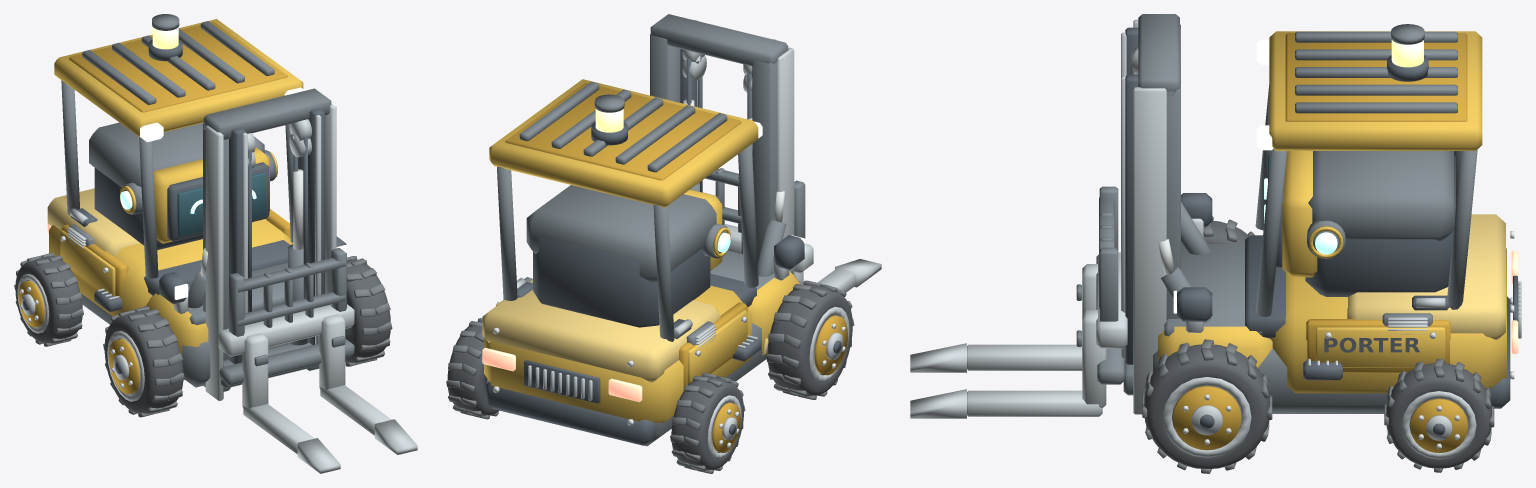
File: porter_standard.glb
3 renders of one model, left to right at view 1: azimuth 30°, elevation 25°; view 2: azimuth 150°, elevation 25°; view 3: azimuth 270°, elevation 25°, orthographic. The views are drawn at different scales.
Parts seen in each view (by area): view 1: Forks_steel, OuterMast_steel, RoofInset_shadowpaint, Roof_paint, LoadBackrest_frame, RobotCab_frame, RoofRibs_frame, SafetyCage_frame, Counterweight_paint, InnerMast_black, MastCrossbar_frame, Wheel_L_1_Tire_rubber (+34 smaller); view 2: EngineCover_lightpaint, RobotCab_frame, RobotCab_black, Roof_paint, RoofInset_shadowpaint, Counterweight_paint, SafetyCage_frame, OuterMast_frame, RoofRibs_frame, Wheel_L_1_Tire_rubber, RearBumper_black, MastCrossbar_frame (+30 smaller); view 3: RobotCab_frame, Forks_steel, OuterMast_steel, Roof_paint, RoofRibs_frame, Counterweight_paint, RoofInset_shadowpaint, EngineCover_lightpaint, RobotCab_black, SafetyCage_frame, Wheel_R_1_Tire_rubber, Wheel_R_0_Tire_rubber (+29 smaller).
Boxes of the visible parts, x1,y1,x2,y2 form: Forks_steel: (242,314,417,473); OuterMast_steel: (205,103,336,400); RoofInset_shadowpaint: (69,21,287,112); Roof_paint: (54,19,303,137); LoadBackrest_frame: (229,248,346,336); RobotCab_frame: (89,122,264,186); RoofRibs_frame: (82,21,274,104); SafetyCage_frame: (61,80,293,278); Counterweight_paint: (49,219,293,316); InnerMast_black: (229,108,324,363); MastCrossbar_frame: (203,88,331,388); Wheel_L_1_Tire_rubber: (104,310,183,413); EngineCover_lightpaint: (482,279,720,382); RobotCab_frame: (526,185,716,282); RobotCab_black: (533,237,710,327); Roof_paint: (489,79,758,207); RoofInset_shadowpaint: (505,82,741,180); Counterweight_paint: (484,285,751,423); SafetyCage_frame: (497,144,758,341); OuterMast_frame: (650,34,777,258); RoofRibs_frame: (519,81,727,172); Wheel_L_1_Tire_rubber: (767,284,852,396); RearBumper_black: (486,381,655,445); MastCrossbar_frame: (650,14,788,66); RobotCab_frame: (1308,151,1453,241); Forks_steel: (910,264,1106,418); OuterMast_steel: (1133,19,1166,414); Roof_paint: (1269,31,1482,150); RoofRibs_frame: (1295,31,1457,113); Counterweight_paint: (1271,248,1506,393); RoofInset_shadowpaint: (1285,33,1467,121); EngineCover_lightpaint: (1347,214,1505,339); RobotCab_black: (1305,155,1455,296); SafetyCage_frame: (1255,85,1477,316); Wheel_R_1_Tire_rubber: (1144,344,1269,468); Wheel_R_0_Tire_rubber: (1386,363,1491,468).
Bounding box in the file's own units: 1.75 × 1.97 × 2.92.
